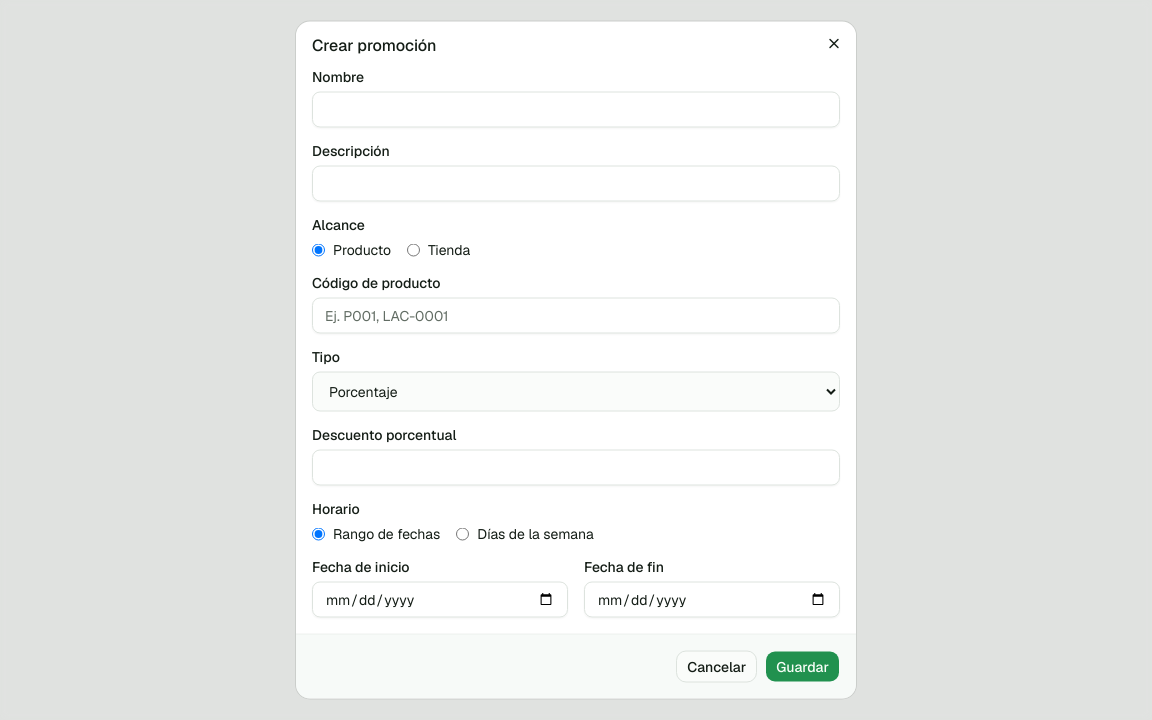
Test: PromotionFormDialog › renders backend validation errors inline
Type "Promo inválida" into the field labelled "Nombre" at x=576, y=110, box 312,92 -> 840,128
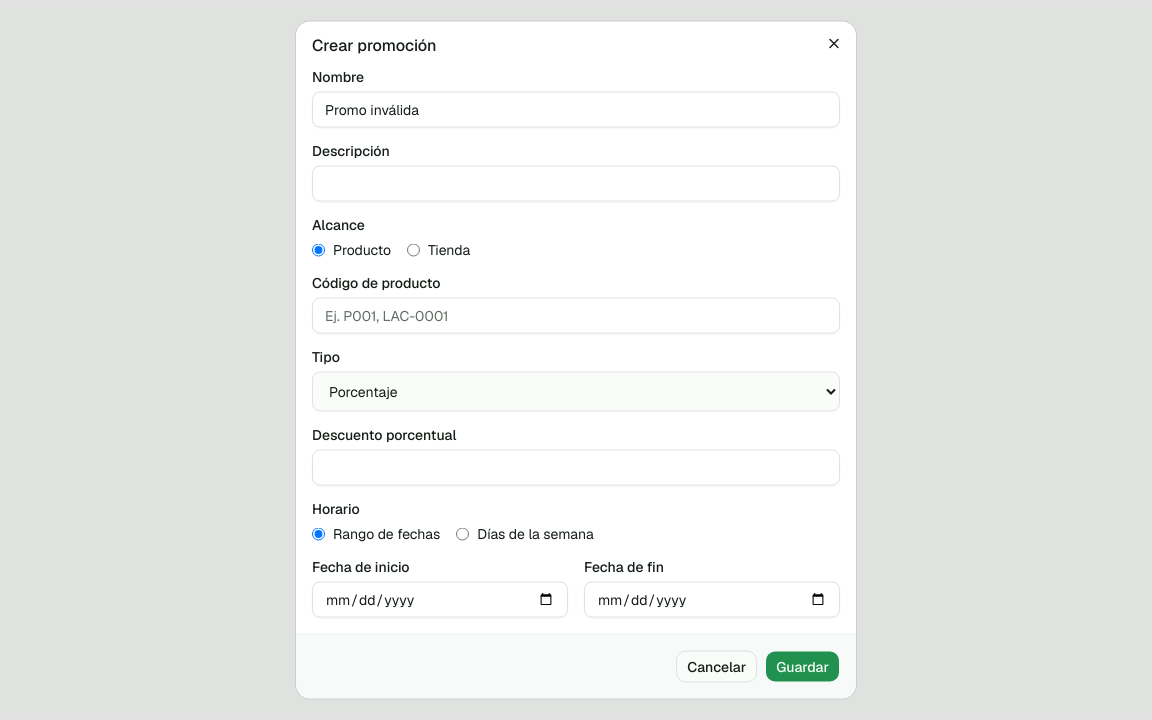
Type "P003" into the field labelled "Código de producto" at x=576, y=316, box 312,298 -> 840,334
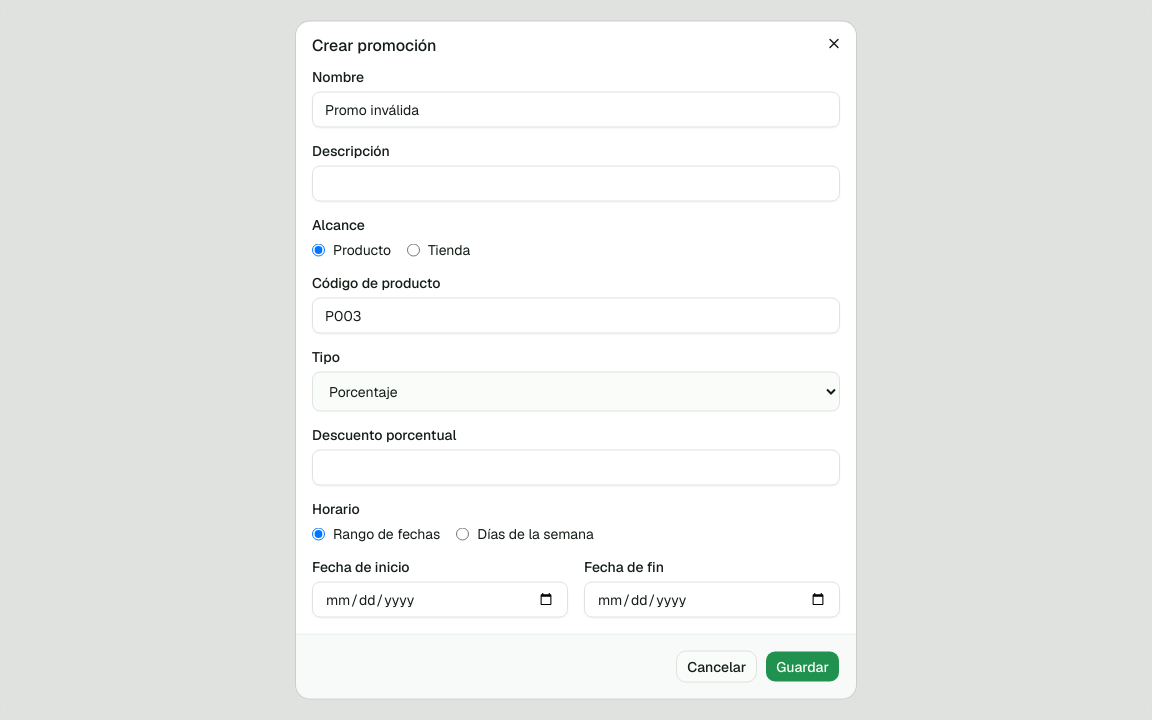
Type "15" into the number field labelled "Descuento porcentual" at x=576, y=468, box 312,450 -> 840,486
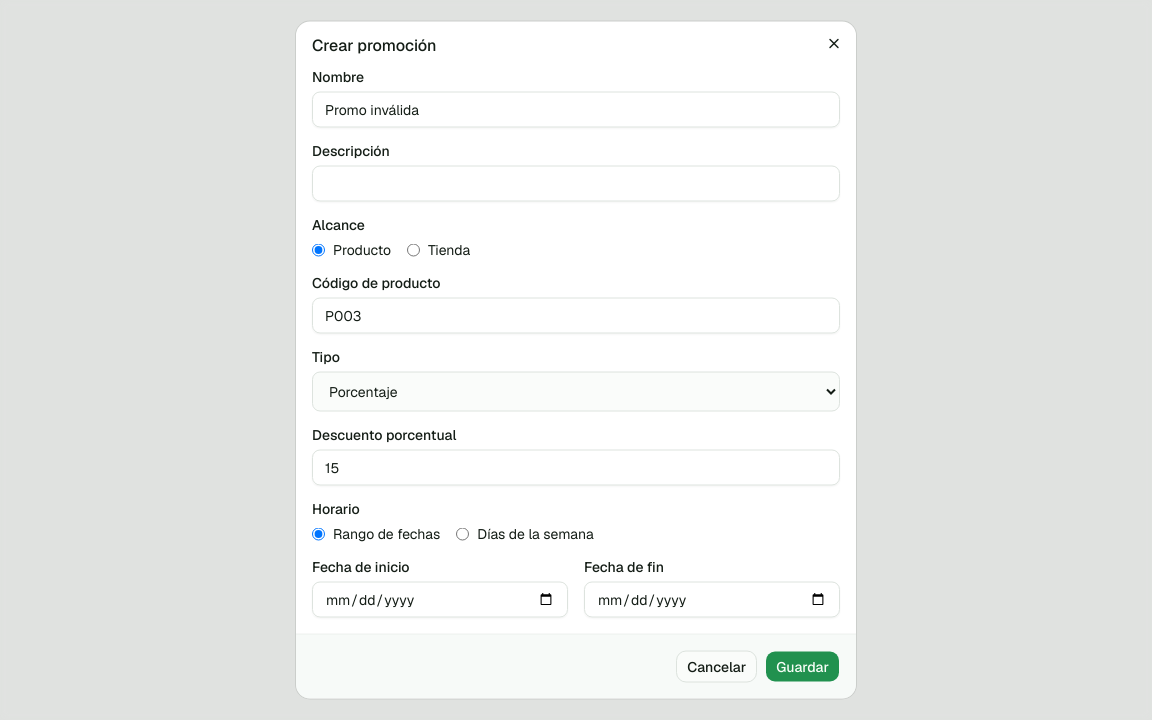
Type "2026-08-01" into the date field labelled "Fecha de inicio" at x=440, y=600, box 312,582 -> 568,618
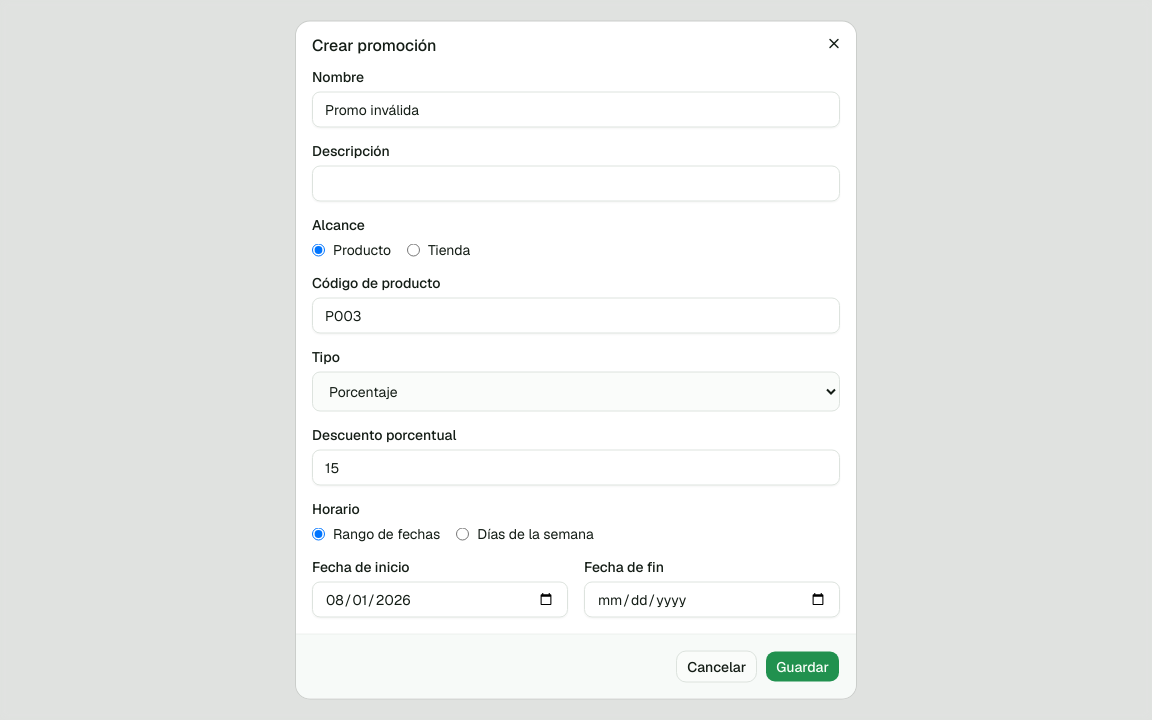
Type "2026-08-31" into the date field labelled "Fecha de fin" at x=712, y=600, box 584,582 -> 840,618
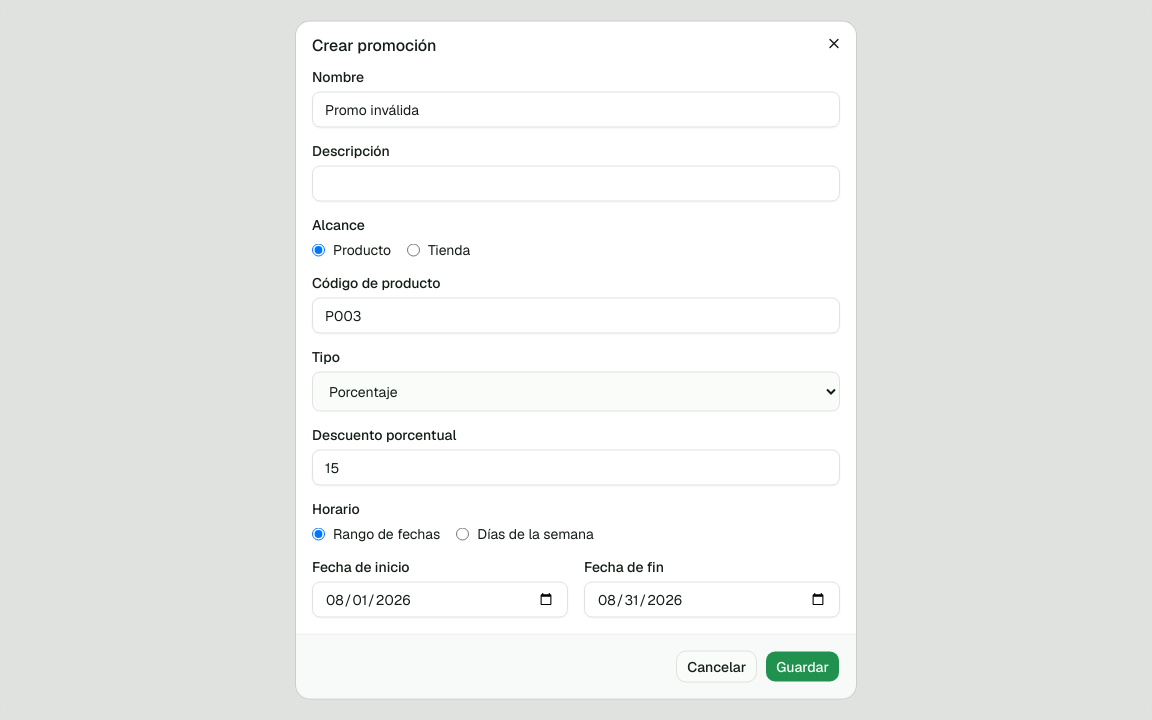
Click the button "Guardar" at x=803, y=666, box 765,650 -> 840,682
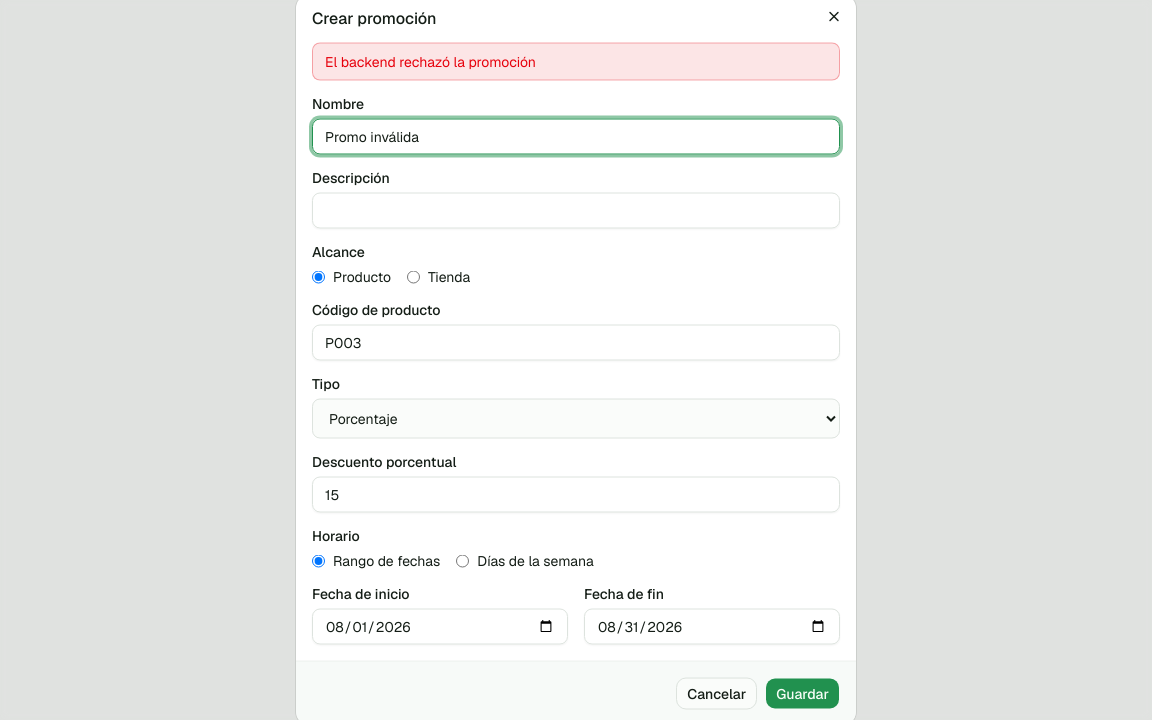
Expected: the message reads "El backend rechazó la promoción", 325,52 -> 536,70
